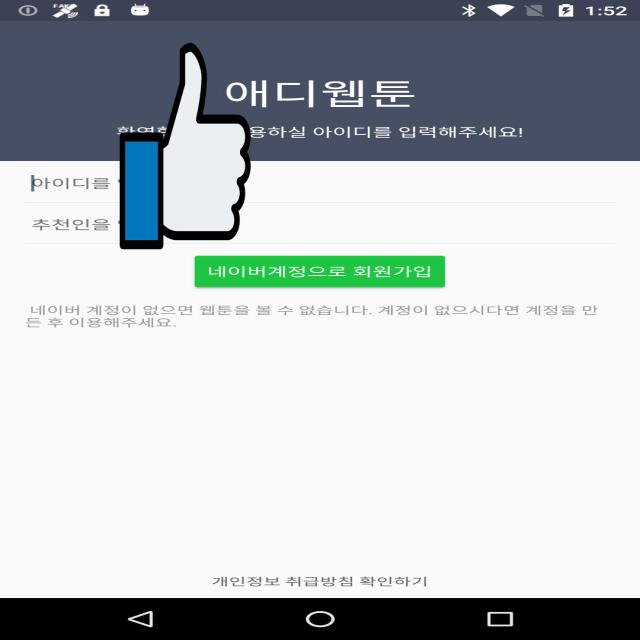privacy zuckering: (120, 38, 250, 254)
